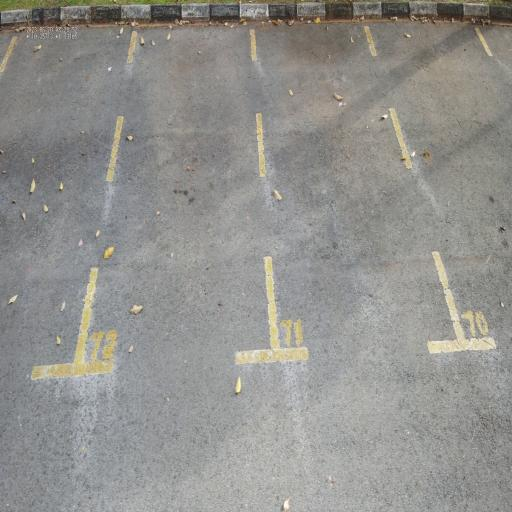Empty: (69, 15, 284, 381), (248, 22, 474, 366)
